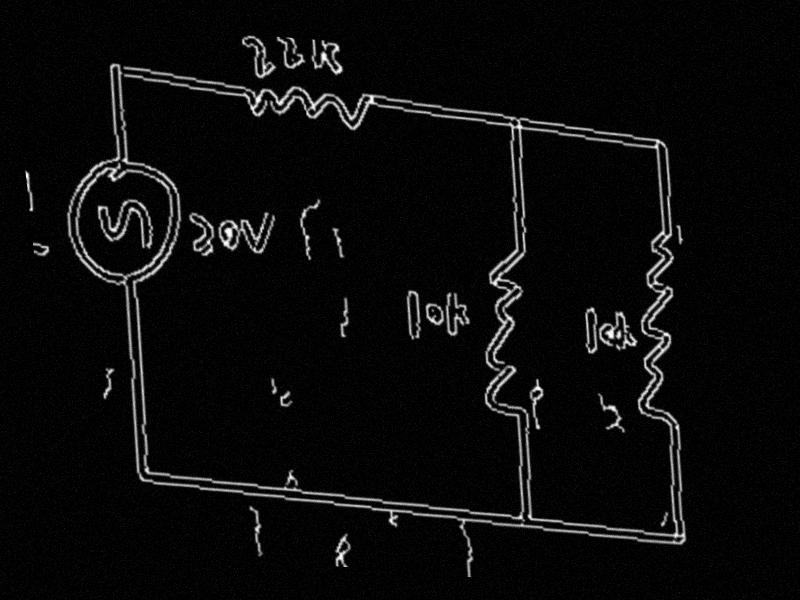-: (32, 238, 53, 260)
0: (214, 216, 244, 252), (595, 320, 621, 351), (422, 298, 445, 327)
1: (400, 286, 425, 342), (579, 304, 604, 358), (513, 403, 514, 405)
2: (237, 33, 280, 82), (185, 208, 220, 263), (274, 36, 309, 73)
V: (237, 207, 282, 256)
k: (441, 287, 473, 340), (307, 39, 347, 80), (611, 309, 641, 354)
